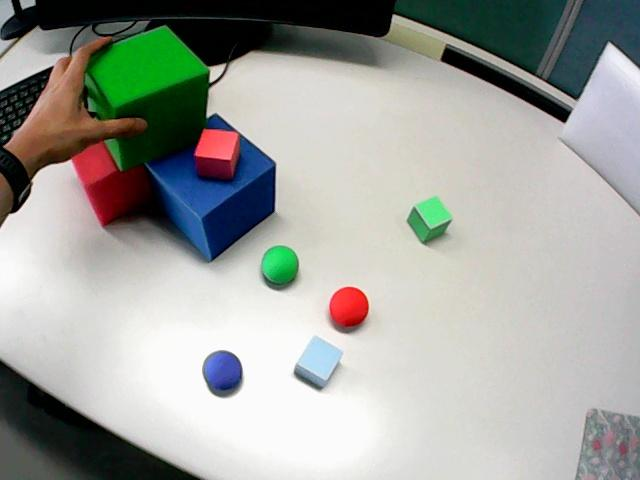blue_block: (146, 135, 275, 260), (294, 336, 342, 387)
red_block: (72, 142, 152, 225), (194, 129, 239, 179)
